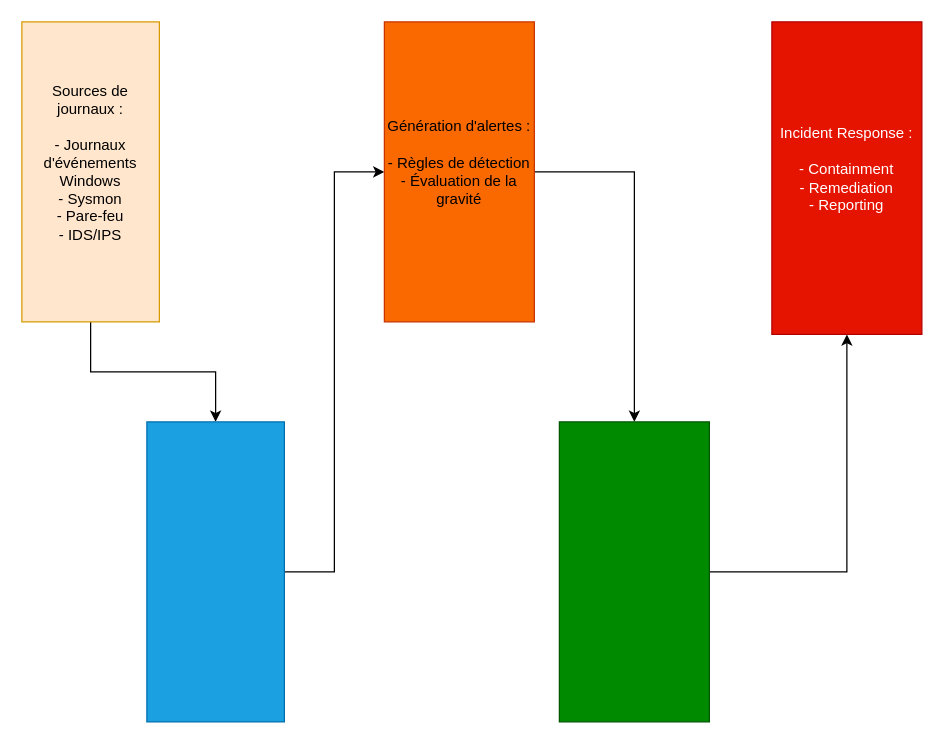
Some shapes in this 944 by 744 pixel diagram are drawn without their labels. The shapes that lost their labels are listed below. From the top down, each one's box as (x1, y1, x2, y2) in pixels, then its label:
(146, 421, 284, 722): Plateforme SIEM : - Collecte des journaux - Normalisation - Corrélation
(558, 421, 709, 722): SOC Analyst : - Alert Validation - Investigation
